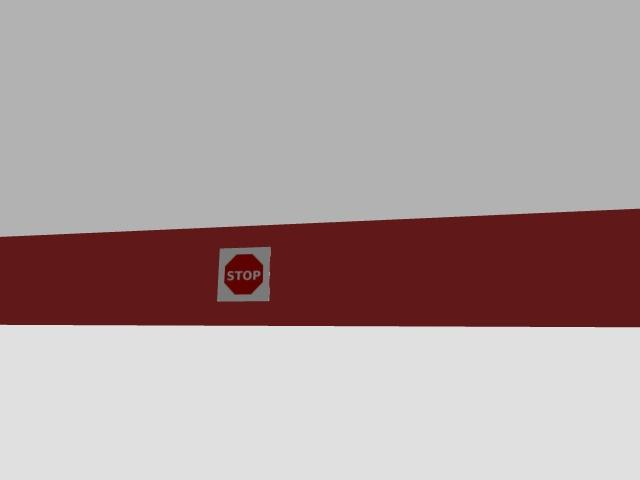stop: (218, 247, 270, 301)
